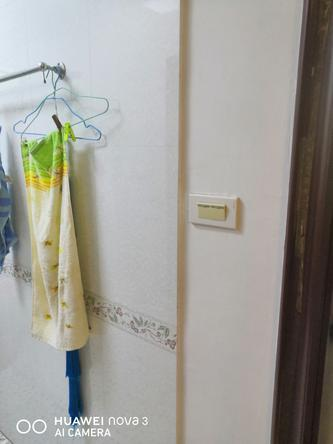switch: (193, 200, 230, 222)
